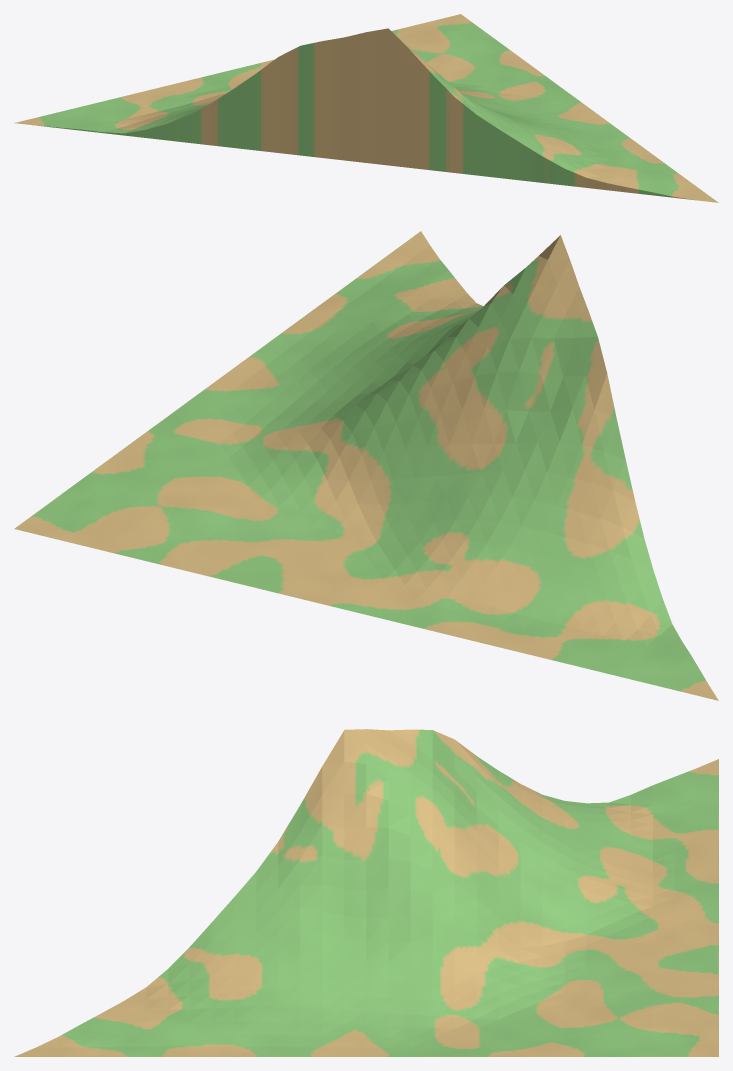
Rendered from Grass_Hills_09_SE.obj.
3 renders of one model, top to bottom at view 1: azimuth 30°, elevation 25°; view 2: azimuth 150°, elevation 25°; view 3: azimuth 270°, elevation 25°, orthographic. The views are drawn at different scales.
Bounding box in the file's own units: 10 × 2.93 × 10.
Materials: 1 (1 with a texture image).
